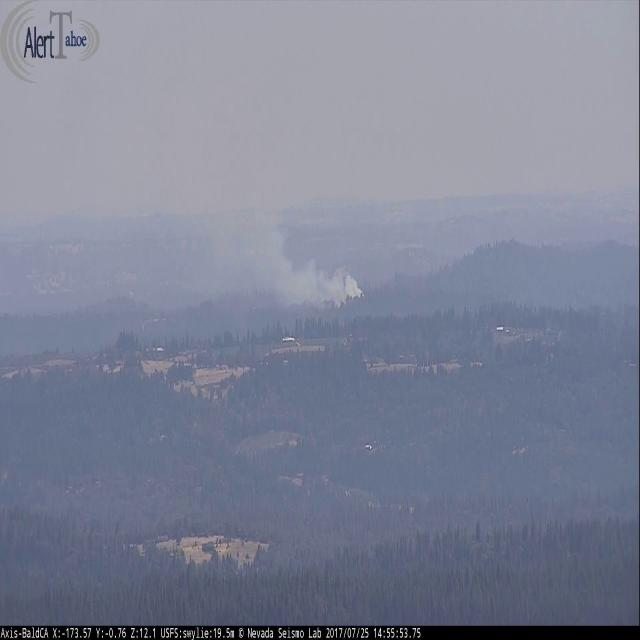smoke: (150, 133, 375, 301)
